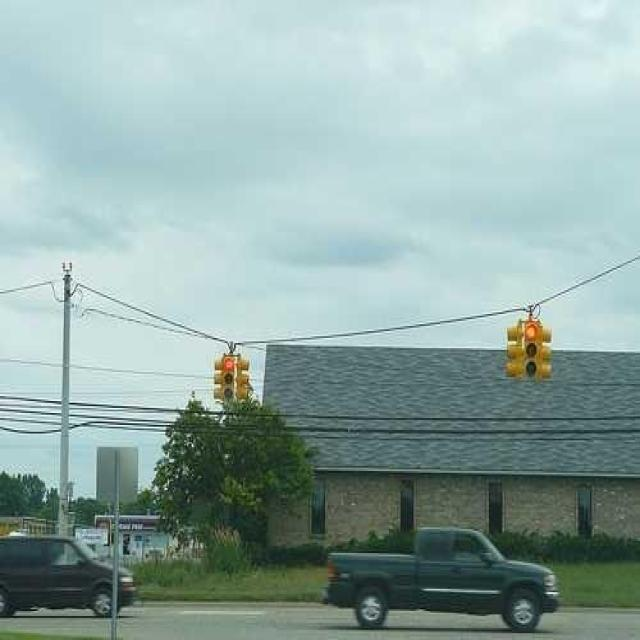Traffic Light -Green-: (518, 318, 540, 380)
Traffic Light -Red-: (221, 354, 237, 399)
